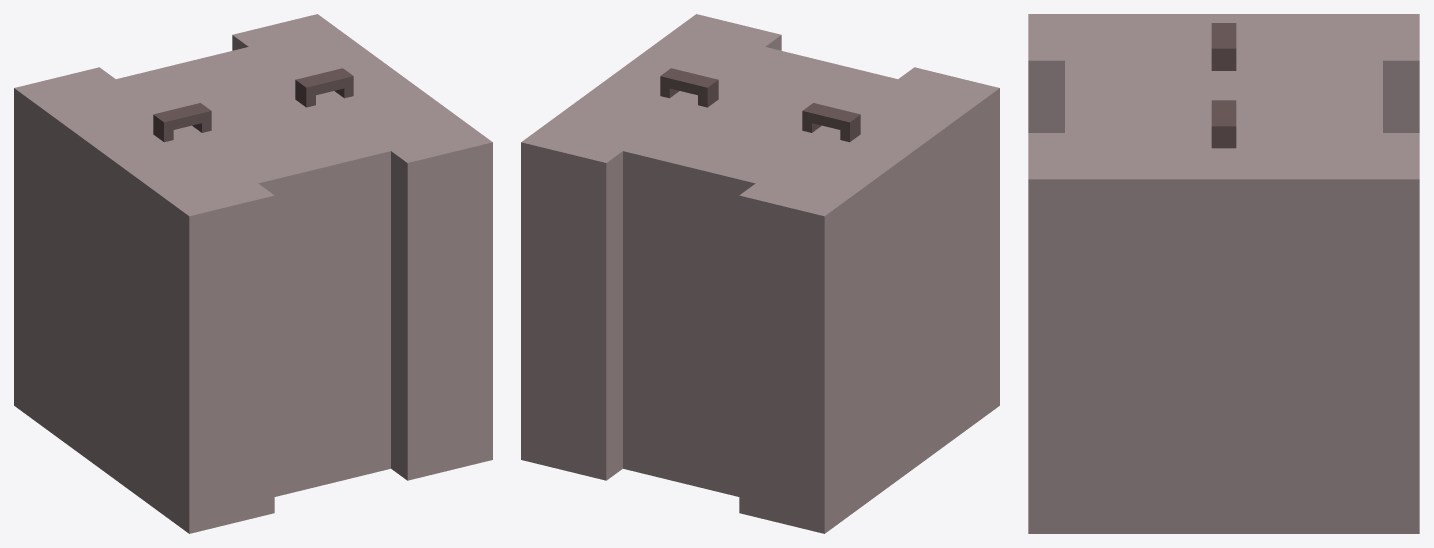
File: vox_crate_tall.glb
3 views of the same model, side by side, from view 1: azimuth 30°, elevation 25°; view 2: azimuth 150°, elevation 25°; view 3: azimuth 270°, elevation 25° (orthographic). The views are drawn at different scales.
Parts seen in each view (by area): view 1: Object_157; view 2: Object_157; view 3: Object_157.
Boxes of the visible parts, x1,y1,x2,y2 form: Object_157: (14,14,492,533); Object_157: (521,14,999,533); Object_157: (1028,14,1419,533).
Size of the model in its own units: 0.8 by 0.85 by 0.8.
Materials: 1 (1 with a texture image).
